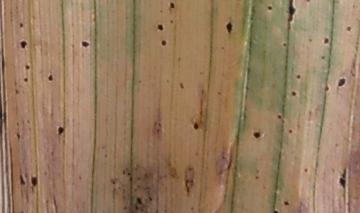tarspot: (222, 18, 237, 37), (335, 74, 347, 92), (18, 36, 29, 55), (319, 34, 333, 48), (79, 36, 90, 53), (251, 128, 264, 142), (133, 194, 146, 208), (28, 173, 40, 188), (190, 119, 202, 134), (54, 124, 66, 138), (154, 20, 166, 34), (343, 22, 354, 36), (44, 72, 56, 84), (281, 198, 293, 209), (289, 88, 300, 100), (21, 75, 33, 86), (274, 110, 284, 123), (22, 61, 33, 72), (166, 1, 178, 11), (294, 72, 304, 83), (286, 126, 296, 137), (159, 37, 168, 49), (265, 4, 275, 14)
